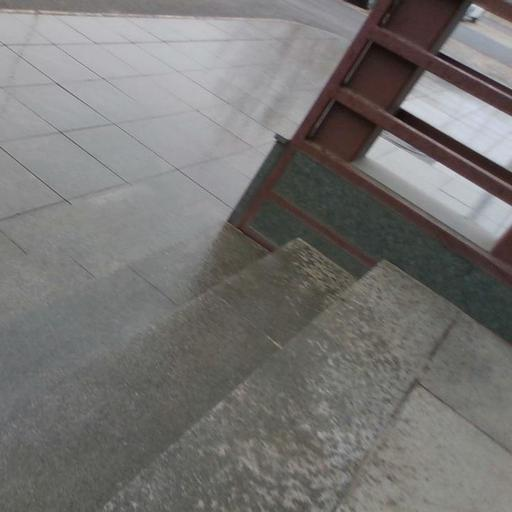stairs: (0, 227, 511, 511)
